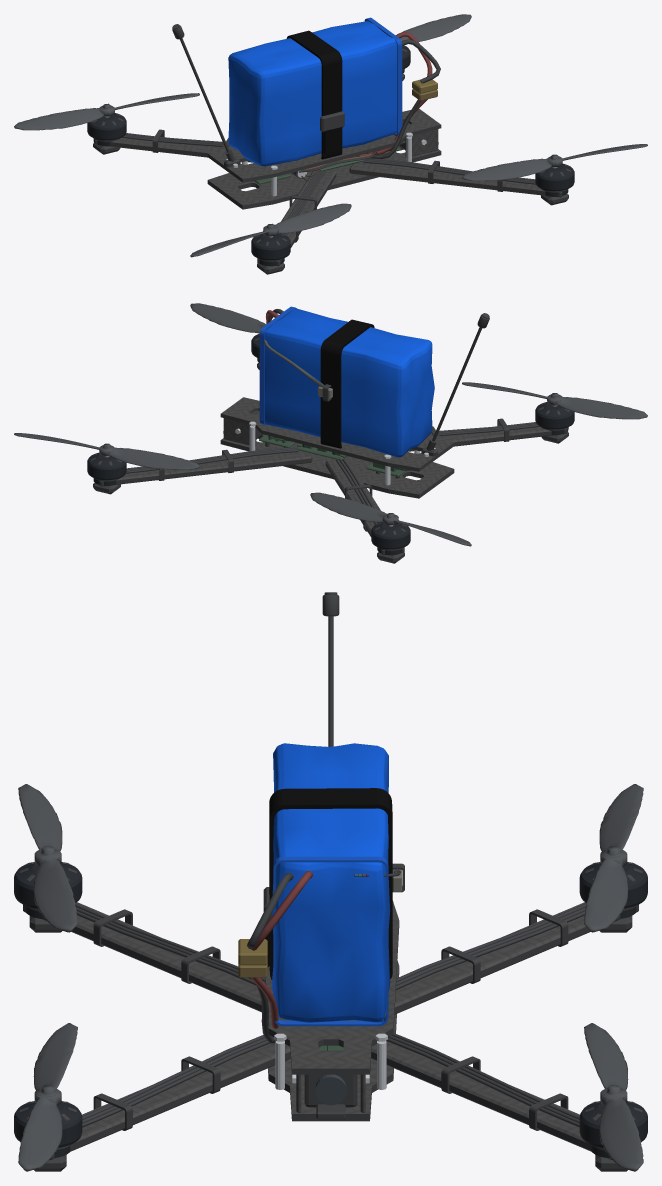
The model's file is Drone_OpenFrame_v8_LOD0.glb.
The picture shows the model from 3 angles, top to bottom: view 1: azimuth 30°, elevation 25°; view 2: azimuth 150°, elevation 25°; view 3: azimuth 270°, elevation 25°; orthographic projection. The views are drawn at different scales.
Visible parts, largest first — view 1: Battery, Frame_TopPlate, Frame_LowerPlate, Battery_MainStrap, Frame_Arm_FR, Prop_RL_CW, Prop_FR_CW, Prop_RR_CCW, Frame_Arm_RL, Frame_Arm_RR, Motor_RR, Prop_FL_CCW (+8 smaller); view 2: Battery, Frame_TopPlate, Frame_LowerPlate, Battery_MainStrap, Frame_Arm_FL, Prop_RR_CCW, Prop_FL_CCW, Prop_RL_CW, Prop_FR_CW, Frame_Arm_RR, Frame_Arm_RL, Motor_RL (+6 smaller); view 3: Battery, Frame_TopPlate, Prop_FL_CCW, Prop_RR_CCW, Prop_FR_CW, Prop_RL_CW, Frame_Arm_FL, Frame_Arm_FR, Frame_Arm_RL, Frame_Arm_RR, Battery_MainStrap, Frame_LowerPlate (+11 smaller).
Part boxes in pixels (x1=…): Battery: x1=228, y1=21, x2=397, y2=166; Frame_TopPlate: x1=207, y1=108, x2=441, y2=182; Frame_LowerPlate: x1=207, y1=146, x2=441, y2=209; Battery_MainStrap: x1=286, y1=30, x2=342, y2=159; Frame_Arm_FR: x1=349, y1=161, x2=562, y2=197; Prop_RL_CW: x1=14, y1=93, x2=199, y2=130; Prop_FR_CW: x1=462, y1=144, x2=647, y2=180; Prop_RR_CCW: x1=190, y1=203, x2=351, y2=257; Frame_Arm_RL: x1=94, y1=137, x2=252, y2=162; Frame_Arm_RR: x1=257, y1=170, x2=336, y2=266; Motor_RR: x1=251, y1=233, x2=290, y2=266; Prop_FL_CCW: x1=397, y1=14, x2=471, y2=41; Battery: x1=264, y1=308, x2=434, y2=457; Frame_TopPlate: x1=220, y1=397, x2=454, y2=471; Frame_LowerPlate: x1=220, y1=434, x2=454, y2=498; Battery_MainStrap: x1=320, y1=319, x2=374, y2=448; Frame_Arm_FL: x1=99, y1=450, x2=312, y2=486; Prop_RR_CCW: x1=462, y1=382, x2=647, y2=419; Prop_FL_CCW: x1=14, y1=433, x2=199, y2=470; Prop_RL_CW: x1=310, y1=492, x2=471, y2=546; Prop_FR_CW: x1=190, y1=303, x2=265, y2=333; Frame_Arm_RR: x1=407, y1=426, x2=567, y2=451; Frame_Arm_RL: x1=325, y1=458, x2=404, y2=555; Motor_RL: x1=371, y1=522, x2=410, y2=555; Battery: x1=271, y1=743, x2=390, y2=1022; Frame_TopPlate: x1=265, y1=900, x2=399, y2=1074; Prop_FL_CCW: x1=584, y1=1023, x2=643, y2=1171; Prop_RR_CCW: x1=18, y1=784, x2=77, y2=932; Prop_FR_CW: x1=18, y1=1023, x2=77, y2=1171; Prop_RL_CW: x1=584, y1=784, x2=643, y2=932; Frame_Arm_FL: x1=371, y1=1041, x2=612, y2=1160; Frame_Arm_FR: x1=49, y1=1043, x2=290, y2=1160; Frame_Arm_RL: x1=394, y1=902, x2=638, y2=1014; Frame_Arm_RR: x1=23, y1=902, x2=261, y2=1012; Battery_MainStrap: x1=269, y1=788, x2=392, y2=979; Frame_LowerPlate: x1=264, y1=960, x2=399, y2=1121.
Bounding box in the file's own units: 0.4662 × 0.1837 × 0.325.
Materials: 22 (2 with a texture image).
